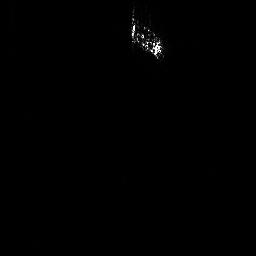ship: (130, 6, 165, 59)
